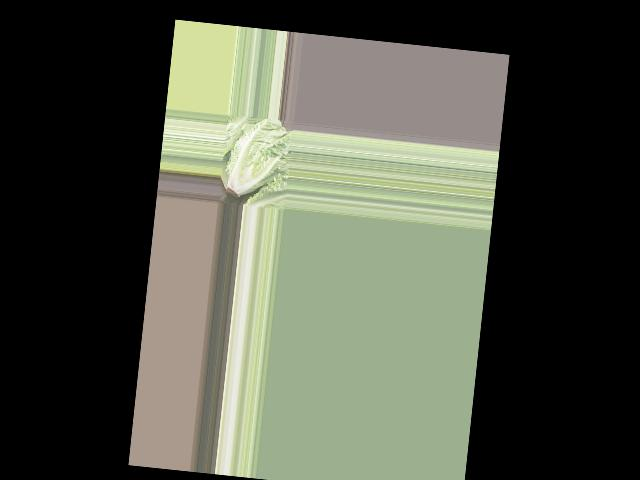lettuce: (217, 115, 289, 205)
